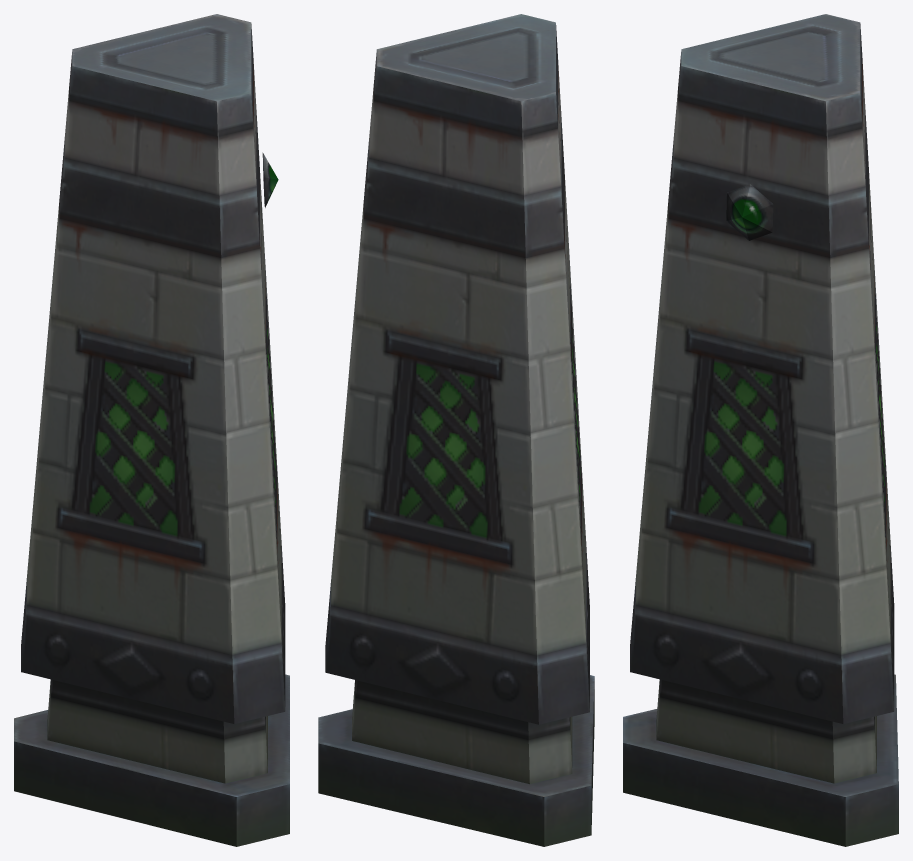
Rendered from scene_senlincaodi_sz01.FBX.
3 renders of one model, left to right at view 1: azimuth 30°, elevation 25°; view 2: azimuth 150°, elevation 25°; view 3: azimuth 270°, elevation 25°, orthographic.
Visible parts, largest first — view 1: scene_senlincaodi_sz01; view 2: scene_senlincaodi_sz01; view 3: scene_senlincaodi_sz01.
Part boxes in pixels (x1,y1,x2,y2): scene_senlincaodi_sz01: (14,14,289,846); scene_senlincaodi_sz01: (318,14,594,846); scene_senlincaodi_sz01: (623,14,898,846).
Bounding box in the file's own units: 119 × 299 × 104.
